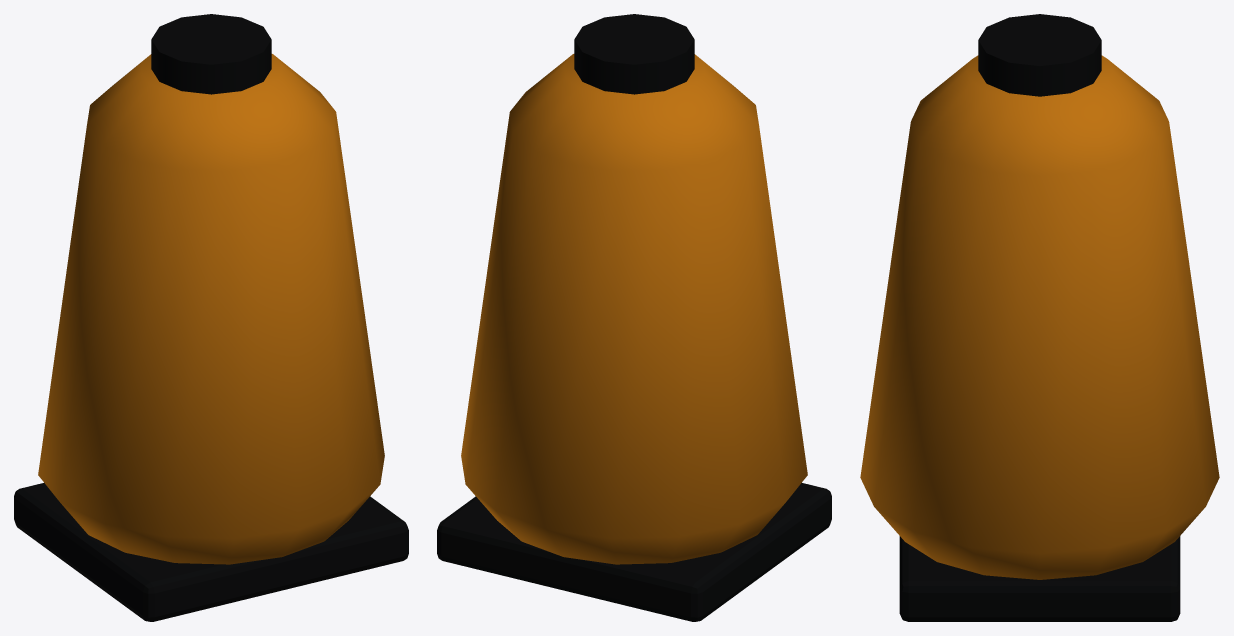
The model's file is TrafficCone.fbx.
3 views of the same model, side by side, from view 1: azimuth 30°, elevation 25°; view 2: azimuth 150°, elevation 25°; view 3: azimuth 270°, elevation 25° (orthographic). The views are drawn at different scales.
Parts seen in each view (by area): view 1: TrafficCone; view 2: TrafficCone; view 3: TrafficCone.
Boxes of the visible parts, bbox=[...] form: TrafficCone: bbox=[14, 14, 408, 621]; TrafficCone: bbox=[437, 14, 831, 621]; TrafficCone: bbox=[860, 14, 1219, 621].
Size of the model in its own units: 32 by 32 by 51.
